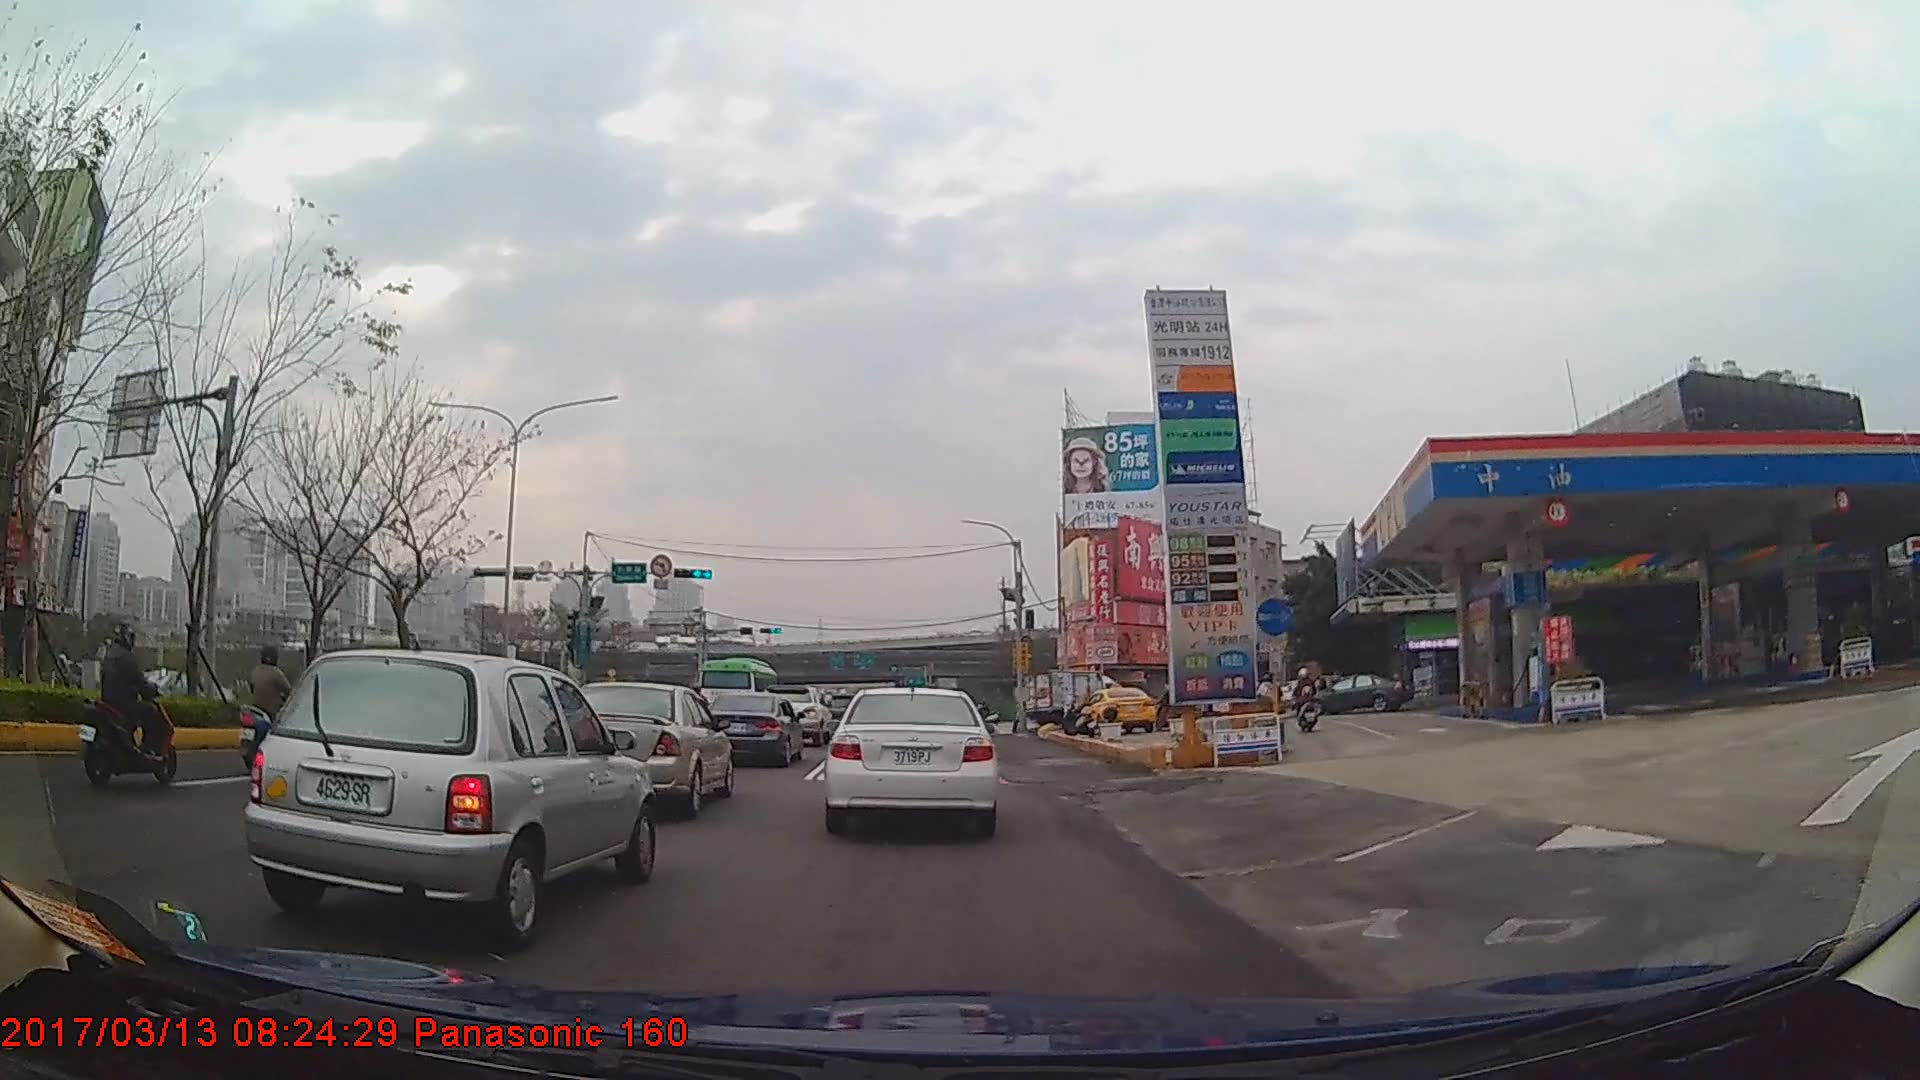rider: (78, 620, 175, 781), (231, 646, 319, 776), (1291, 669, 1321, 733), (1155, 684, 1184, 734), (1259, 675, 1279, 724)
vehicle: (239, 645, 659, 944), (823, 683, 999, 836), (560, 679, 733, 817), (700, 689, 806, 768), (1020, 668, 1123, 729), (695, 654, 780, 719), (757, 683, 832, 745), (1306, 673, 1409, 712), (1083, 683, 1156, 732), (123, 662, 191, 709)
